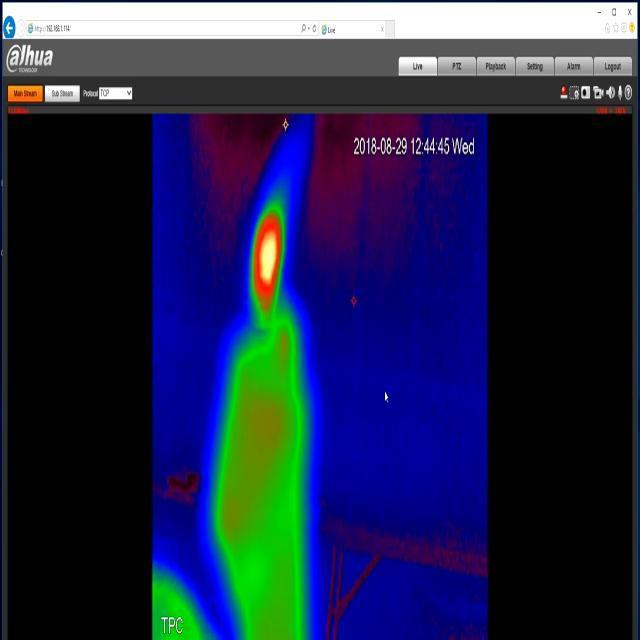fire: (252, 193, 290, 326)
